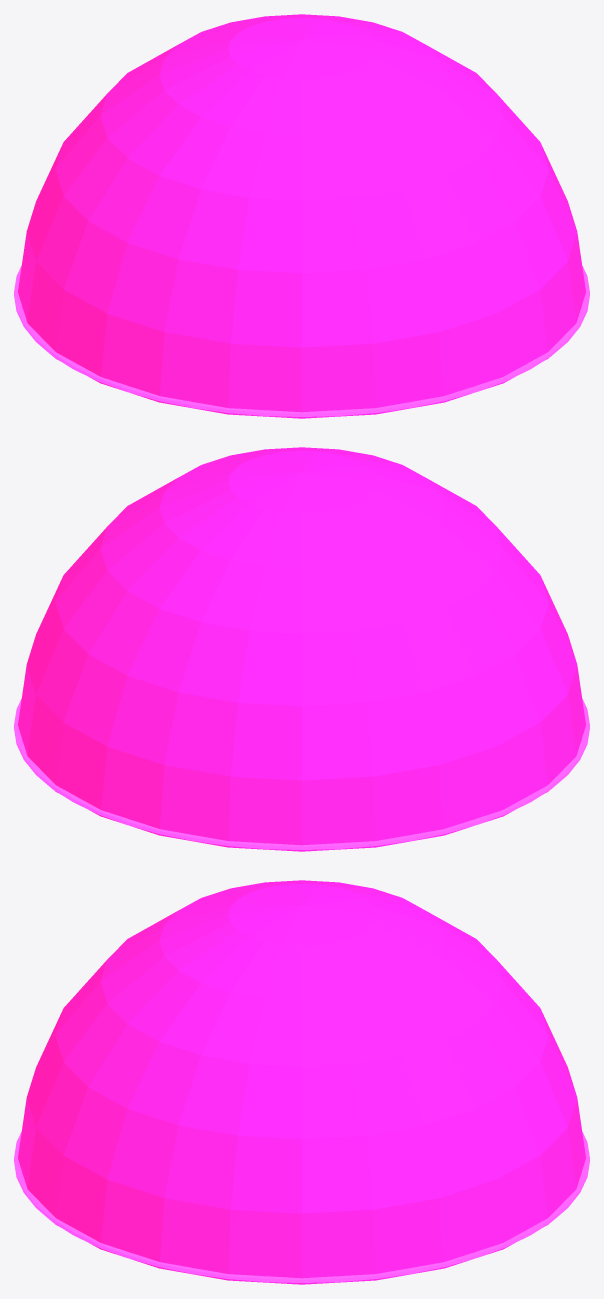
Rendered from NT_ShieldDome_Magenta.fbx.
3 renders of one model, top to bottom at view 1: azimuth 30°, elevation 25°; view 2: azimuth 150°, elevation 25°; view 3: azimuth 270°, elevation 25°, orthographic.
Visible parts, largest first — view 1: NT_ShieldDome_Magenta__EffectMesh; view 2: NT_ShieldDome_Magenta__EffectMesh; view 3: NT_ShieldDome_Magenta__EffectMesh.
Part boxes in pixels (left/top/right/bottom): NT_ShieldDome_Magenta__EffectMesh: left=14, top=14, right=589, bottom=418; NT_ShieldDome_Magenta__EffectMesh: left=14, top=447, right=589, bottom=851; NT_ShieldDome_Magenta__EffectMesh: left=14, top=880, right=589, bottom=1284.
Bounding box in the file's own units: 2.59 × 1.28 × 2.59.
